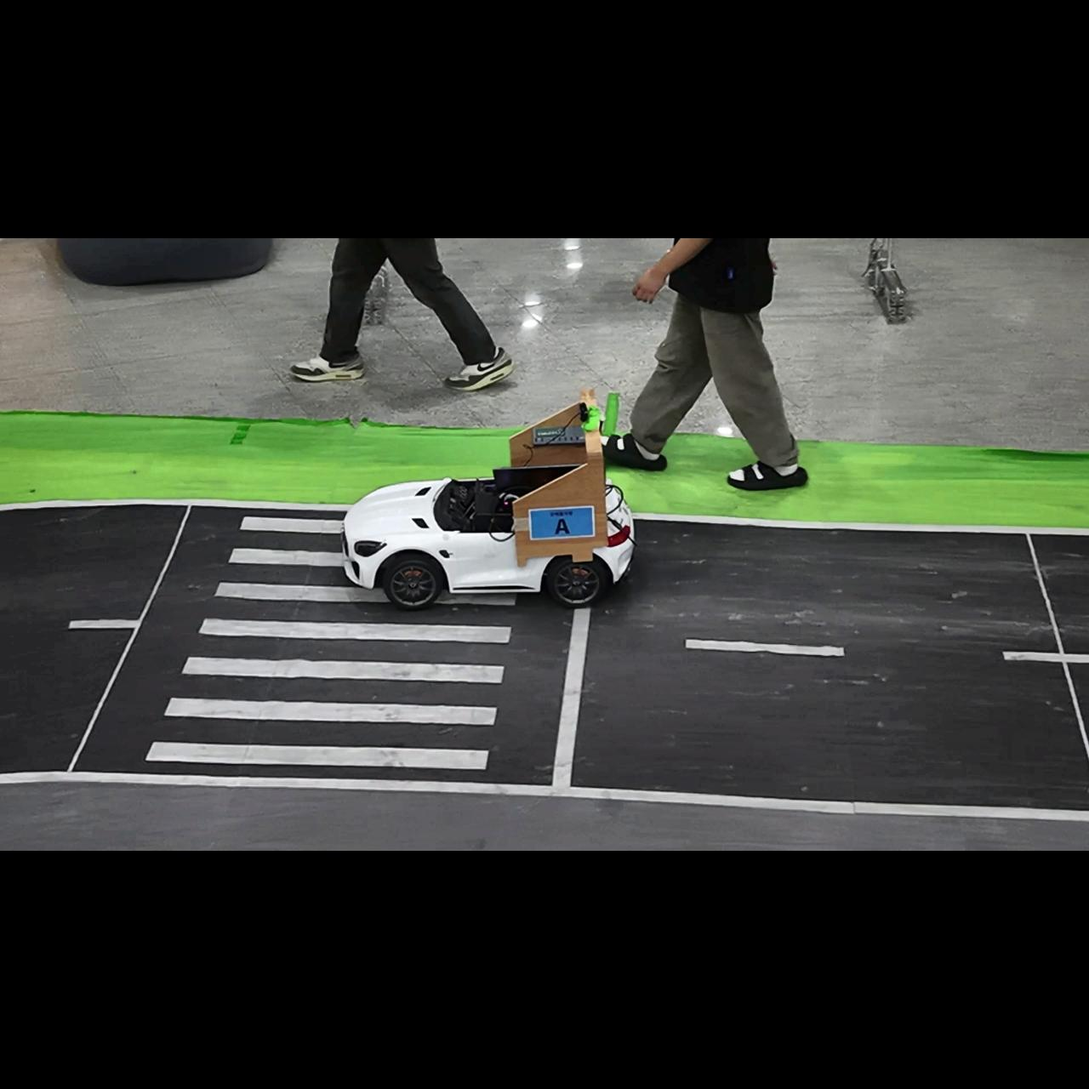broken_line: (685, 639, 845, 656), (1002, 651, 1088, 663), (68, 619, 138, 629)
crosswalk: (145, 516, 517, 770)
